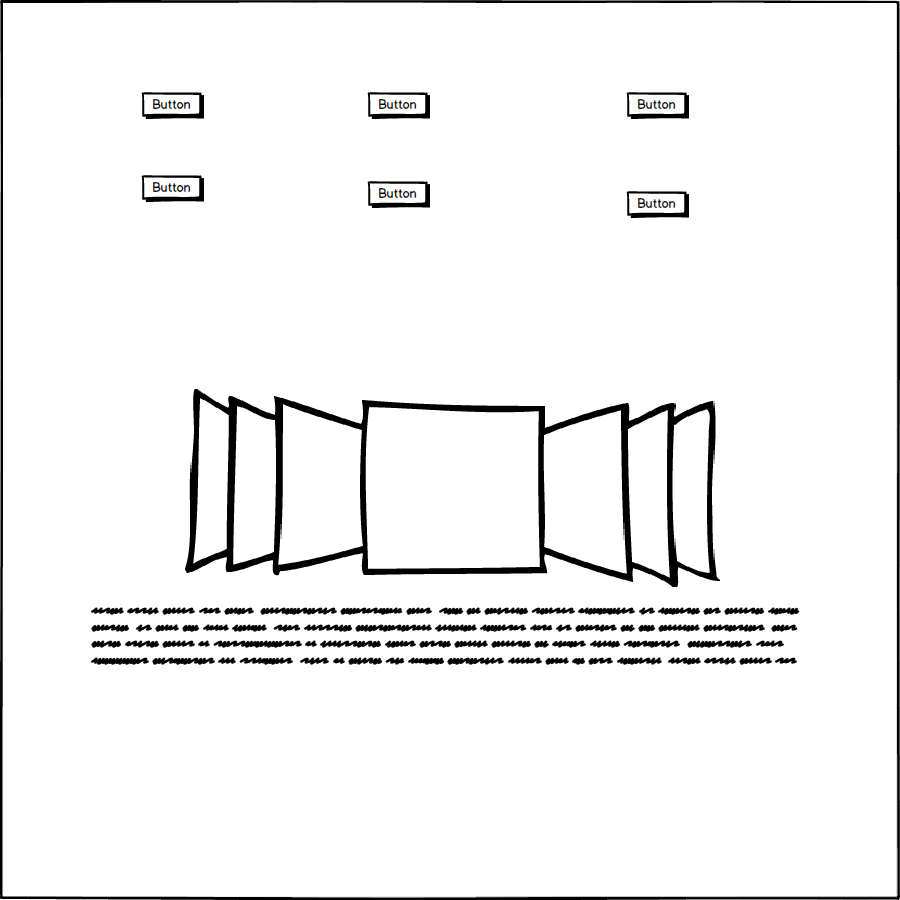button: (134, 169, 219, 208), (138, 85, 213, 129), (620, 85, 700, 125), (618, 186, 698, 223), (361, 85, 438, 123), (364, 175, 435, 212)
p: (85, 599, 809, 675)
slideshow: (181, 385, 733, 592)
